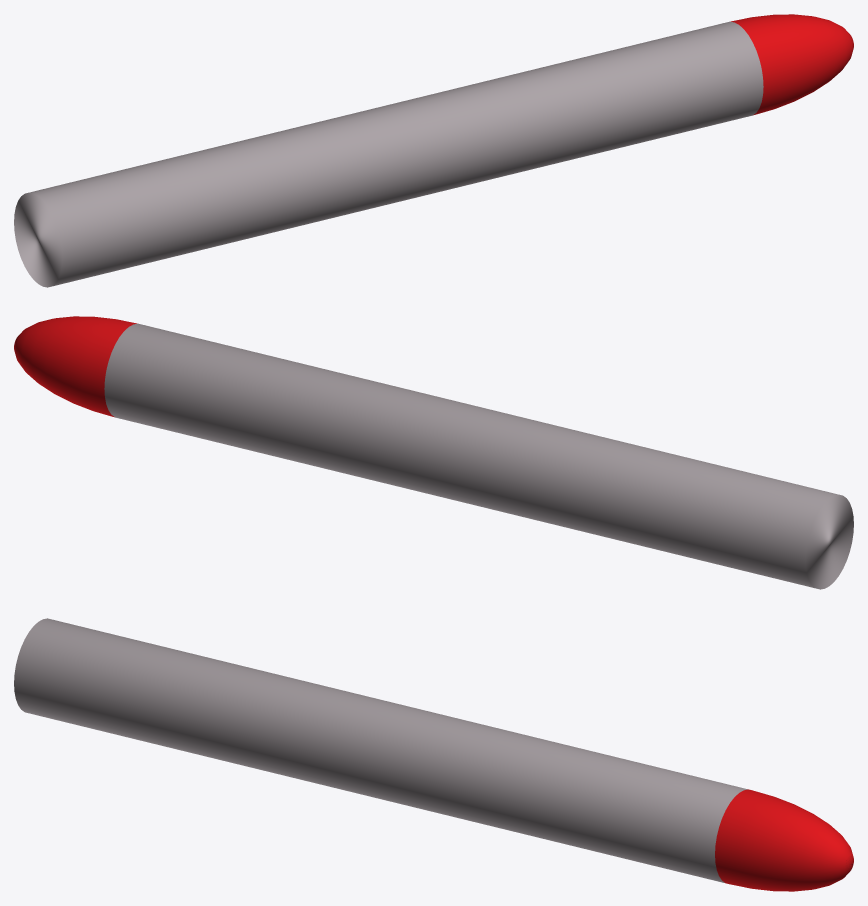
The model's file is torpedo.obj.
3 renders of one model, top to bottom at view 1: azimuth 30°, elevation 25°; view 2: azimuth 150°, elevation 25°; view 3: azimuth 330°, elevation 25°, orthographic.
Visible parts, largest first — view 1: Cylinder, Sphere; view 2: Cylinder, Sphere; view 3: Cylinder, Sphere.
Part boxes in pixels (x1,y1,x2,y2): Cylinder: (14,21,763,287); Sphere: (731,14,853,115); Cylinder: (104,323,853,589); Sphere: (14,316,136,417); Cylinder: (14,618,748,882); Sphere: (715,789,853,891).
Size of the model in its own units: 2.9 by 0.3 by 0.3.
2 materials, 2 textured.
